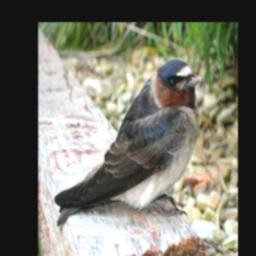Swallow: (52, 54, 205, 230)
